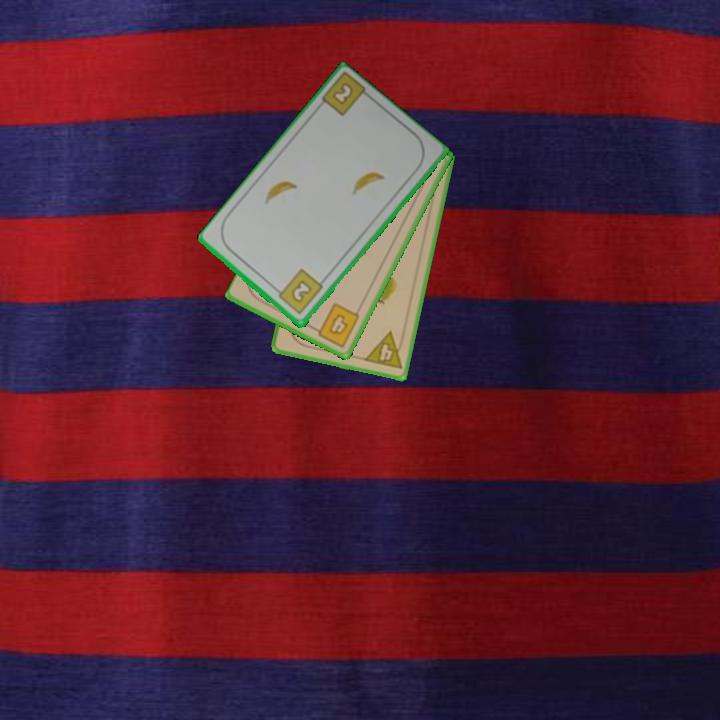2b: (271, 266, 326, 318), (329, 79, 356, 108)
4b: (309, 299, 363, 351)
4p: (360, 328, 408, 372)
